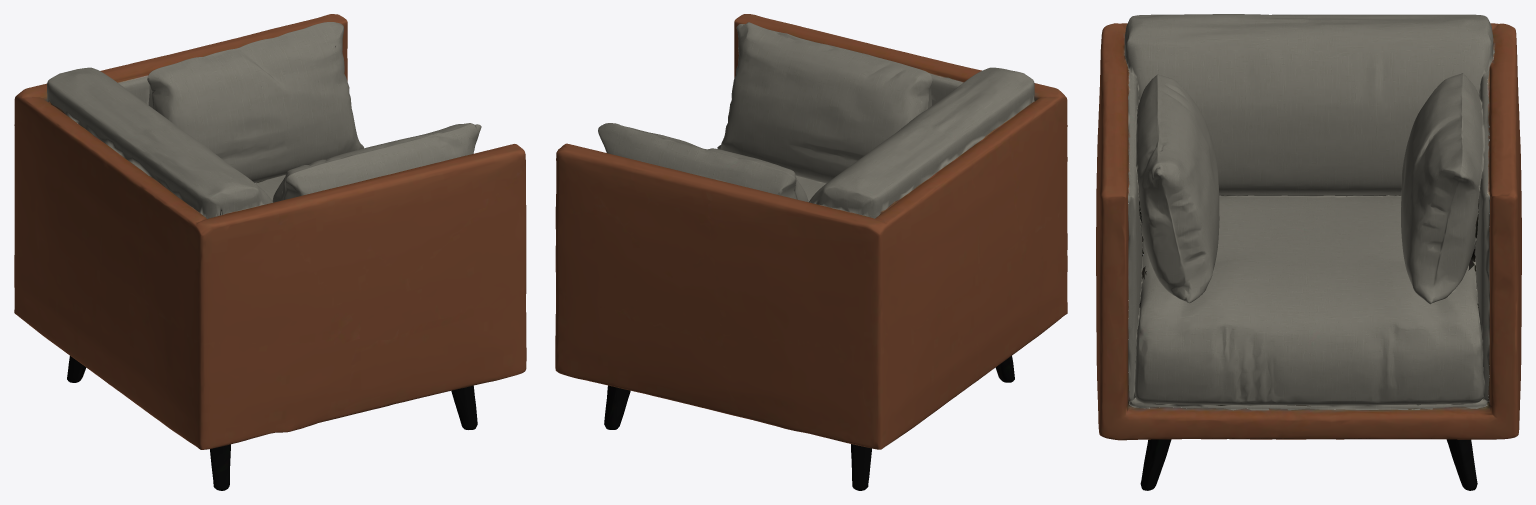
The picture shows the model from 3 angles, left to right: view 1: azimuth 30°, elevation 25°; view 2: azimuth 150°, elevation 25°; view 3: azimuth 270°, elevation 25°; orthographic projection. The views are drawn at different scales.
Parts seen in each view (by area): view 1: tripo_node_b82a013c-9dc0-4cd2-858e-f6eecf55982e; view 2: tripo_node_b82a013c-9dc0-4cd2-858e-f6eecf55982e; view 3: tripo_node_b82a013c-9dc0-4cd2-858e-f6eecf55982e.
Boxes of the visible parts, <box> form: tripo_node_b82a013c-9dc0-4cd2-858e-f6eecf55982e: <box>14,14,526,490</box>; tripo_node_b82a013c-9dc0-4cd2-858e-f6eecf55982e: <box>555,14,1067,490</box>; tripo_node_b82a013c-9dc0-4cd2-858e-f6eecf55982e: <box>1096,14,1521,490</box>.
Bounding box in the file's own units: 0.8 × 0.7 × 0.8.
2 materials, 2 textured.
